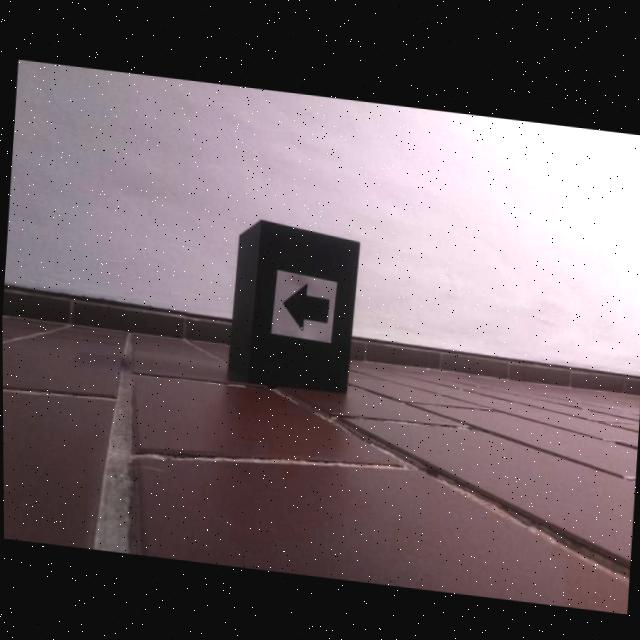LEFT: (281, 279, 329, 329)
